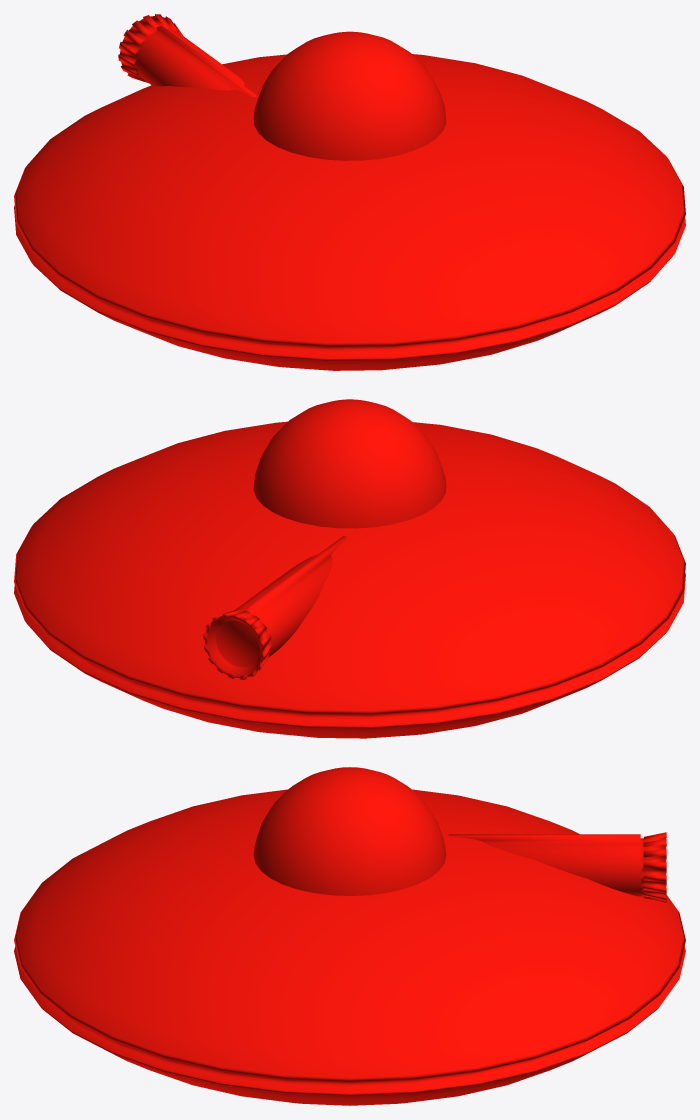
The model's file is UFO.gltf.
3 renders of one model, top to bottom at view 1: azimuth 30°, elevation 25°; view 2: azimuth 150°, elevation 25°; view 3: azimuth 270°, elevation 25°, orthographic.
Parts seen in each view (by area): view 1: Sphere.001; view 2: Sphere.001; view 3: Sphere.001.
Boxes of the visible parts, box(x1,y1,x2,y2) form: Sphere.001: box(14, 14, 685, 370); Sphere.001: box(14, 399, 685, 738); Sphere.001: box(14, 767, 685, 1105).
Bounding box in the file's own units: 1.98 × 0.8649 × 1.98.
